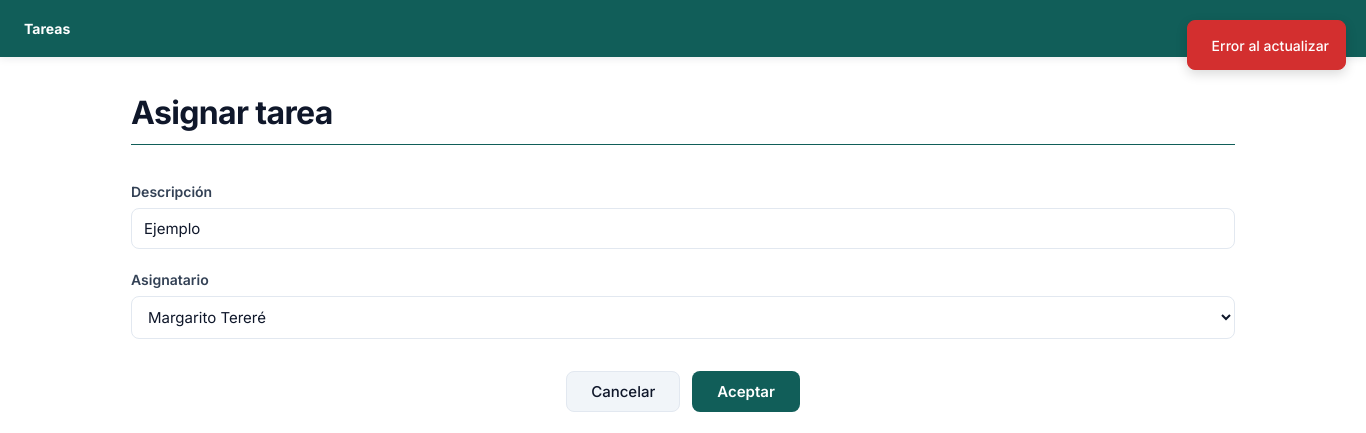
tests de asignar tarea con paginador activado › cuando la tarea no está en la lista local se muestra toast
The width and height of the screenshot is (1366, 433).
Click the button with test id "aceptar".
click(746, 392)  # box [692,371,800,412]
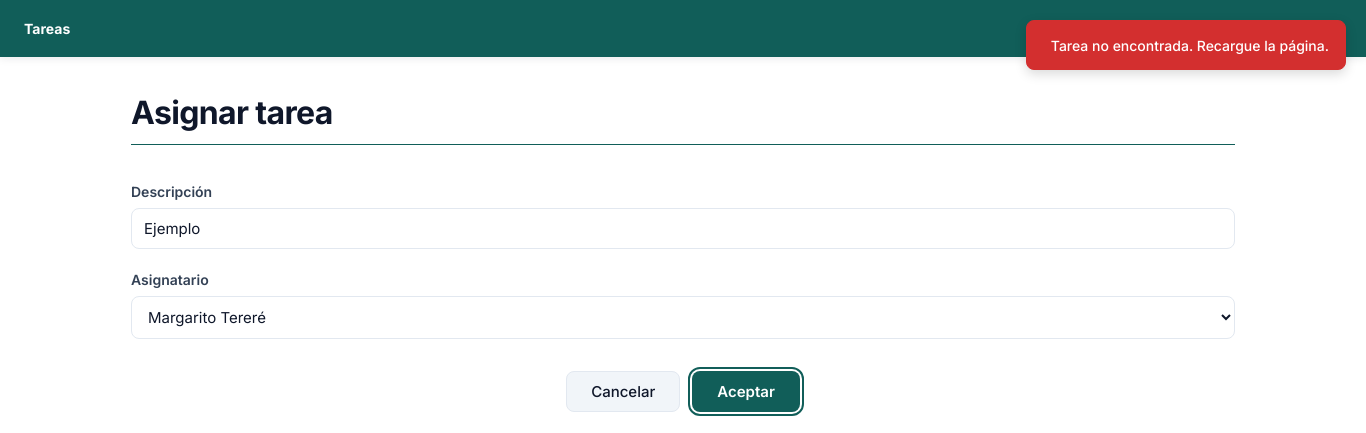
Result: the text "Tarea no encontrada. Recargue la página." is shown at [1026,20,1346,70]
